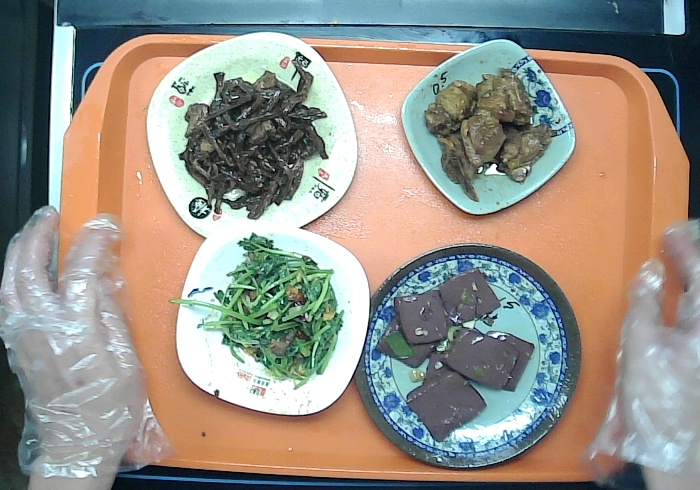NLDX-Bai_Se_Xiao_Fang_Die: (175, 231, 370, 418)
NLDX-Fu_Zi_Fang_Die: (141, 29, 362, 242)
NLDX-Qing_Hua_Xiao_Fang_Die: (397, 39, 577, 219)
NLDX-Qing_Hua_Yuan_Die: (354, 244, 582, 472)
